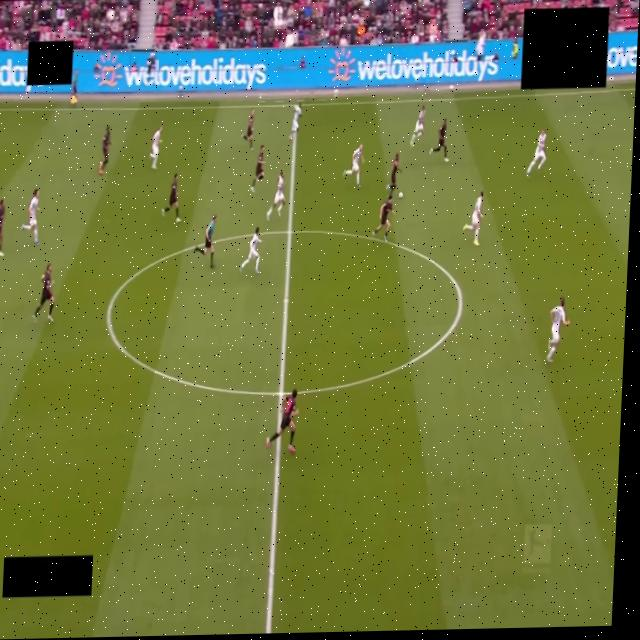ball: (399, 192, 403, 198)
player: (266, 389, 297, 452), (546, 298, 570, 362), (33, 264, 54, 322), (463, 191, 483, 245), (21, 189, 39, 245), (240, 227, 261, 273), (343, 144, 365, 187), (373, 195, 393, 242), (162, 173, 180, 223), (267, 172, 285, 220), (527, 131, 546, 176), (430, 119, 448, 162), (386, 153, 401, 196), (250, 146, 264, 192), (410, 106, 425, 147), (99, 126, 111, 174), (150, 125, 161, 169), (243, 109, 254, 150), (290, 103, 301, 139), (0, 200, 5, 256)
referee: (194, 215, 216, 268), (70, 70, 78, 104)
